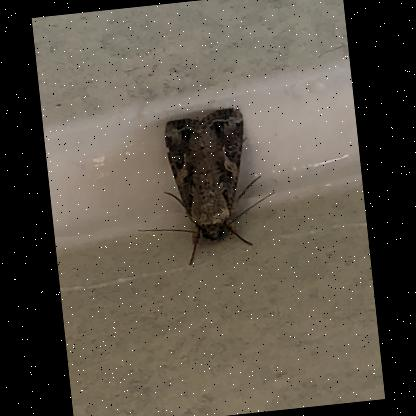Fall Armyworm Moth: (124, 102, 284, 273)
